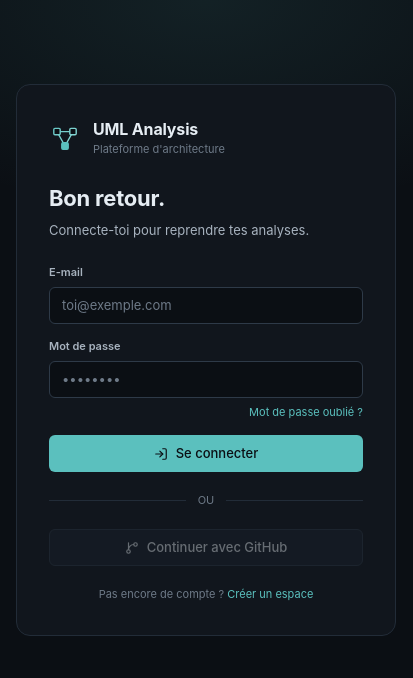
Test: Login — error handling › displays a network error message when the server is unreachable
In the field with placeholder "toi@exemple.com": (206, 306) [49, 287, 363, 324], type "test@test.com"
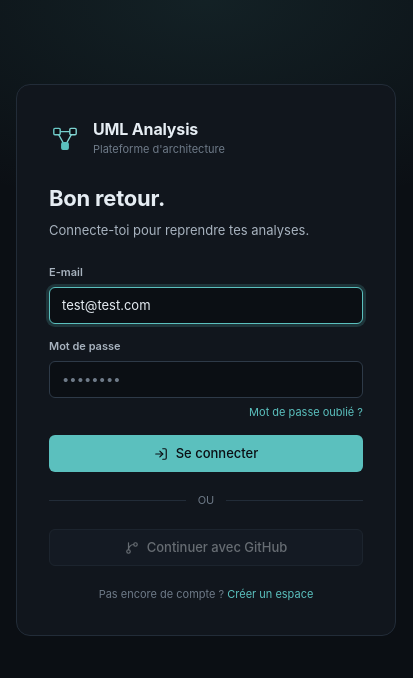
In the password field with placeholder "••••••••": (206, 380) [49, 361, 363, 398], type "Alice1234!@#"
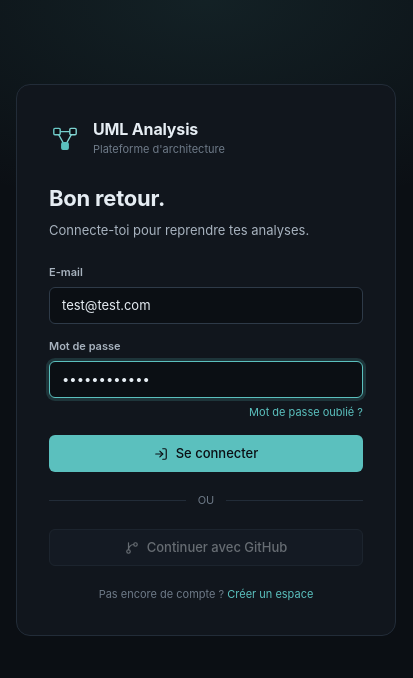
Click the button "Se connecter": (206, 454) [49, 435, 363, 472]
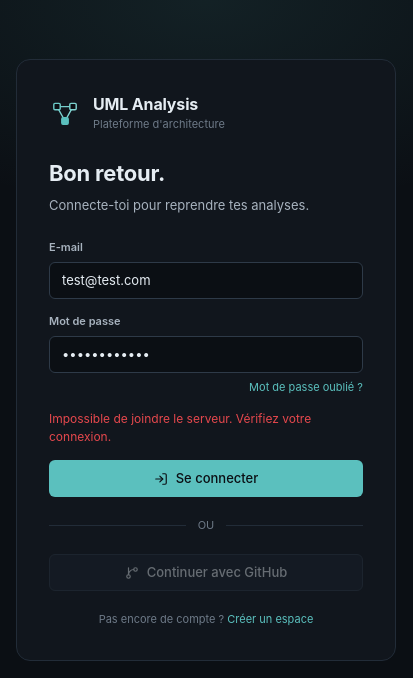
Check: the text "Impossible de joindre le serveur. Vérifiez votre connexion." is shown, box [49, 411, 311, 444]
